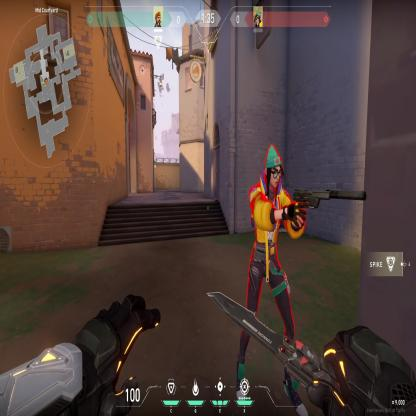enemy: (246, 142, 306, 248)
